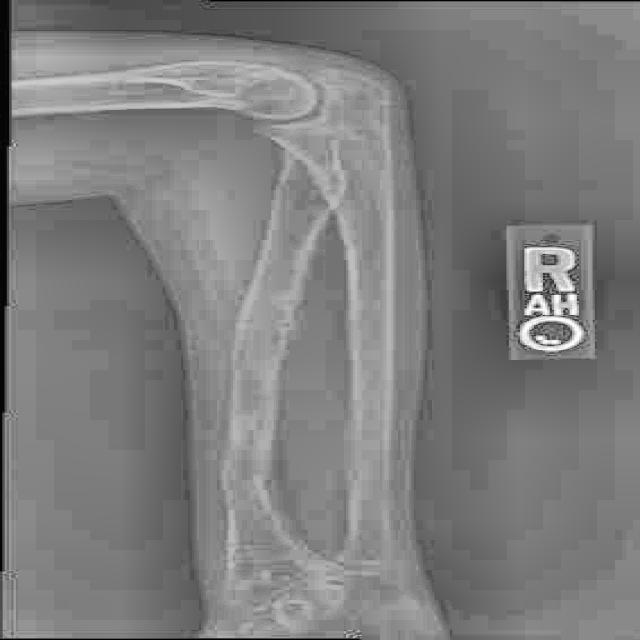forearm fracture: (238, 459, 308, 535)
